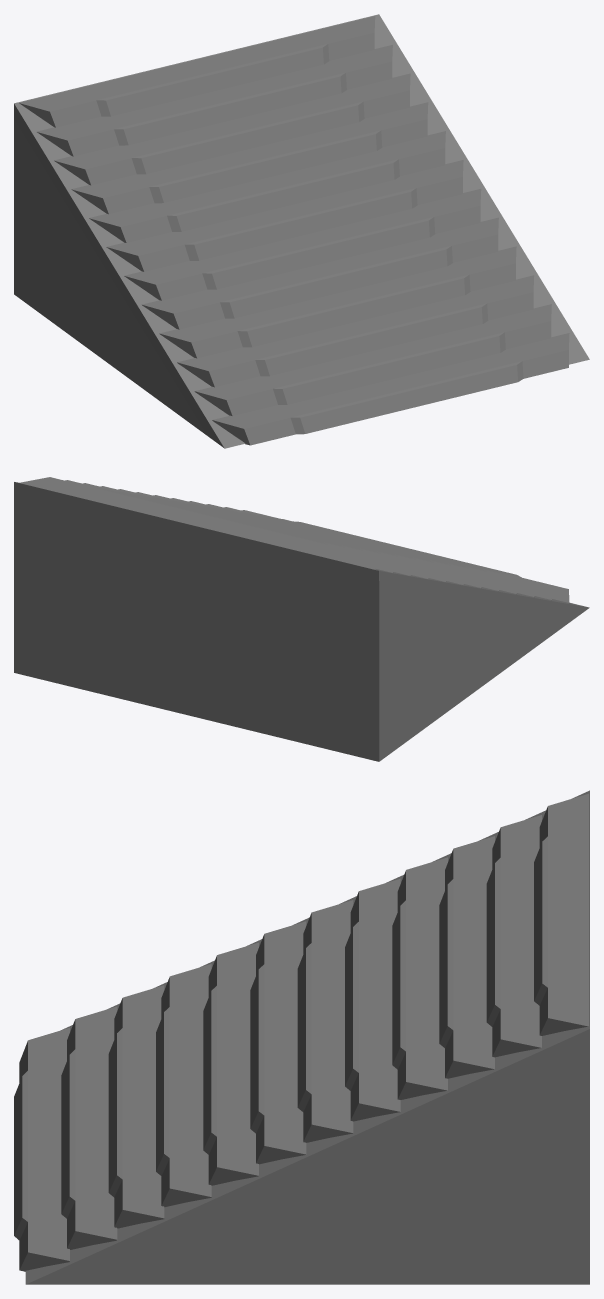
Rendered from q-scifi-mod-platform-stairs-4wide.glb.
3 renders of one model, top to bottom at view 1: azimuth 30°, elevation 25°; view 2: azimuth 150°, elevation 25°; view 3: azimuth 270°, elevation 25°, orthographic. The views are drawn at different scales.
Visible parts, largest first — view 1: Platform_Stairs_4Wide; view 2: Platform_Stairs_4Wide; view 3: Platform_Stairs_4Wide.
Boxes of the visible parts, x1,y1,x2,y2 form: Platform_Stairs_4Wide: [14, 14, 589, 448]; Platform_Stairs_4Wide: [14, 477, 589, 761]; Platform_Stairs_4Wide: [14, 790, 589, 1284].
Bounding box in the file's own units: 4 × 2.01 × 4.08.
2 materials, 2 textured.
